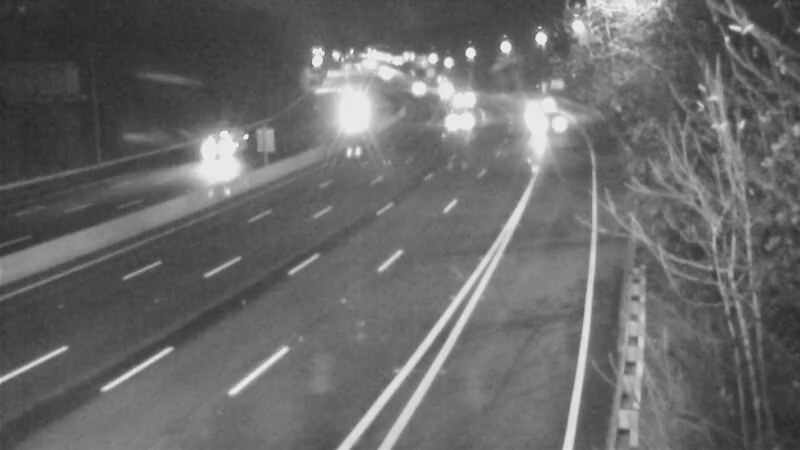vehicle: (179, 112, 259, 192), (417, 67, 467, 117), (388, 64, 438, 114), (436, 78, 486, 128), (521, 94, 571, 144), (438, 96, 488, 146), (325, 90, 375, 140)
